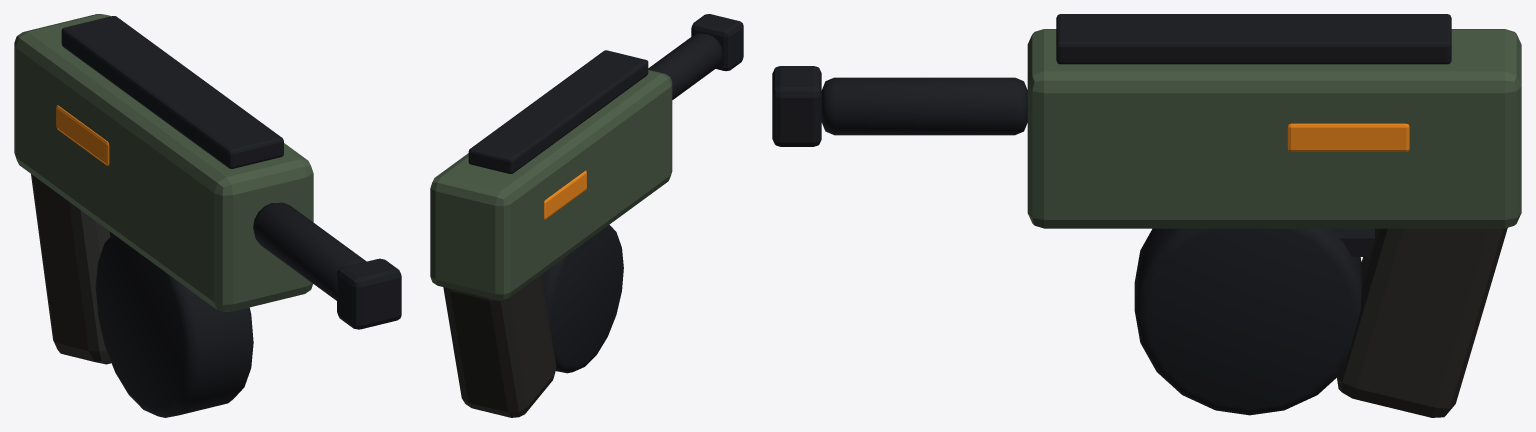
File: Rattler.fbx
3 views of the same model, side by side, from view 1: azimuth 30°, elevation 25°; view 2: azimuth 150°, elevation 25°; view 3: azimuth 270°, elevation 25° (orthographic). The views are drawn at different scales.
Parts seen in each view (by area): view 1: Part__Metal__4a5a46, Part__Metal__1f2024, Handle__SmoothPlastic__2b2a28, Muzzle__Metal__1f2024, Part__SmoothPlastic__ff8c1e; view 2: Part__Metal__4a5a46, Part__Metal__1f2024, Handle__SmoothPlastic__2b2a28, Muzzle__Metal__1f2024, Part__SmoothPlastic__ff8c1e; view 3: Part__Metal__4a5a46, Part__Metal__1f2024, Handle__SmoothPlastic__2b2a28, Muzzle__Metal__1f2024, Part__SmoothPlastic__ff8c1e.
Boxes of the visible parts, box(x1,y1,x2,y2) form: Part__Metal__4a5a46: box(14, 14, 313, 311); Part__Metal__1f2024: box(61, 16, 366, 417); Handle__SmoothPlastic__2b2a28: box(31, 174, 111, 364); Muzzle__Metal__1f2024: box(337, 258, 401, 329); Part__SmoothPlastic__ff8c1e: box(56, 105, 109, 165); Part__Metal__4a5a46: box(430, 70, 672, 300); Part__Metal__1f2024: box(468, 33, 722, 373); Handle__SmoothPlastic__2b2a28: box(443, 275, 556, 417); Muzzle__Metal__1f2024: box(691, 14, 743, 71); Part__SmoothPlastic__ff8c1e: box(544, 170, 586, 219); Part__Metal__4a5a46: box(1027, 29, 1521, 228); Part__Metal__1f2024: box(821, 14, 1451, 415); Handle__SmoothPlastic__2b2a28: box(1337, 227, 1507, 417); Muzzle__Metal__1f2024: box(772, 66, 821, 146); Part__SmoothPlastic__ff8c1e: box(1287, 123, 1409, 151).
Bounding box in the file's own units: 0.33 × 1.01 × 1.82.
